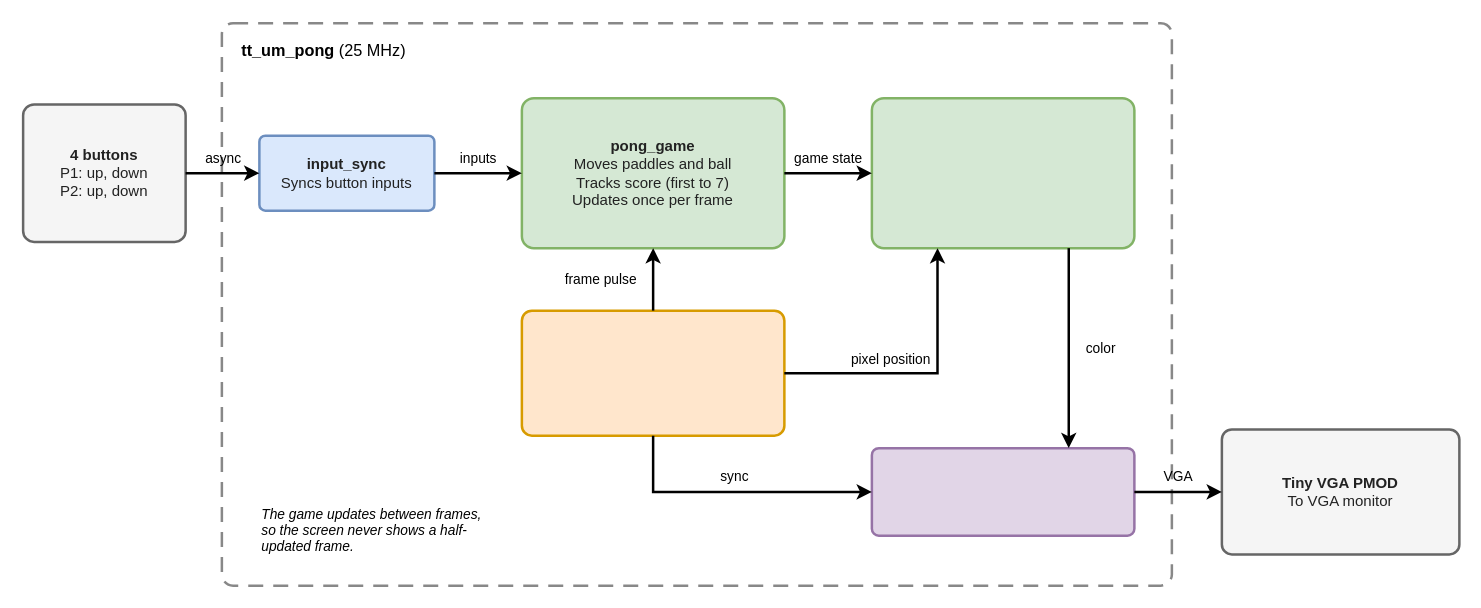
This 1481x608 diagram has some shape labels left out. The box of each missing label's shape, as (x1, y1, x2, y2) in pixels:
Output registers Clean, aligned VGA signals: (870, 446, 1135, 536)
pong_render Picks each pixel's color from the game state: (870, 96, 1135, 249)
vga_sync Tracks screen position Makes hsync / vsync Pulses once per frame: (520, 309, 785, 436)
